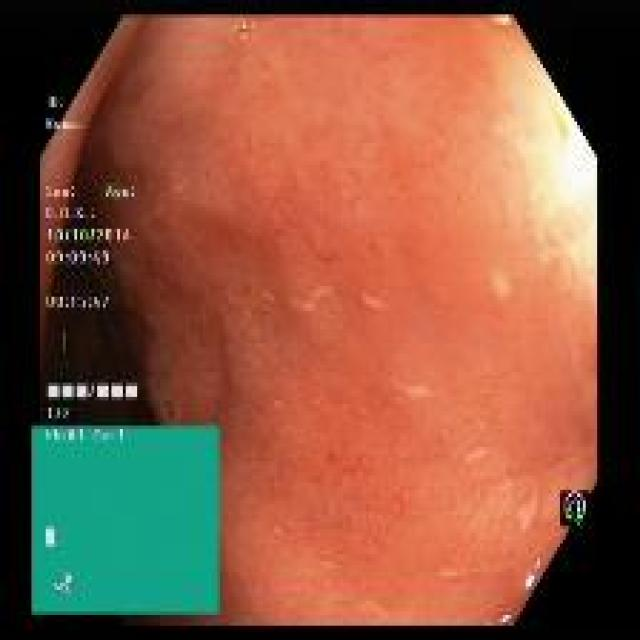ulcerative-colitis: (40, 17, 598, 624)
